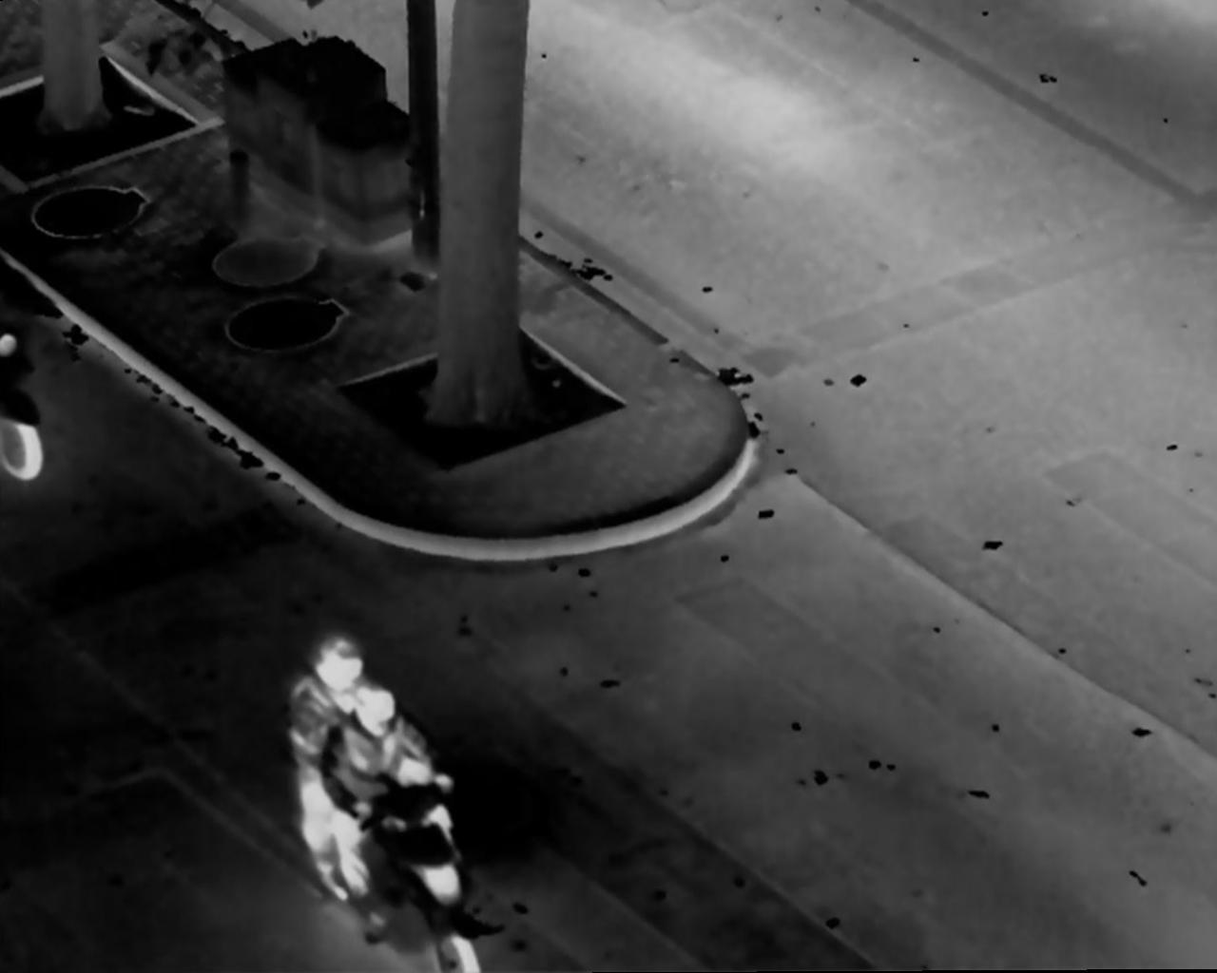person: (330, 680, 432, 906), (281, 622, 370, 879)
